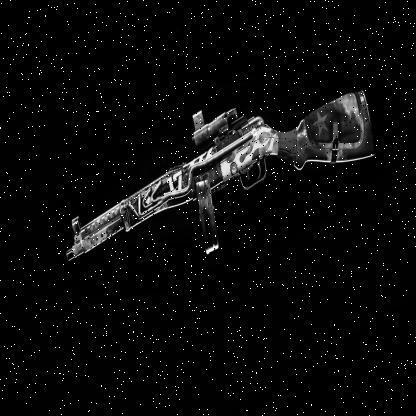rifle: (48, 4, 382, 364)
